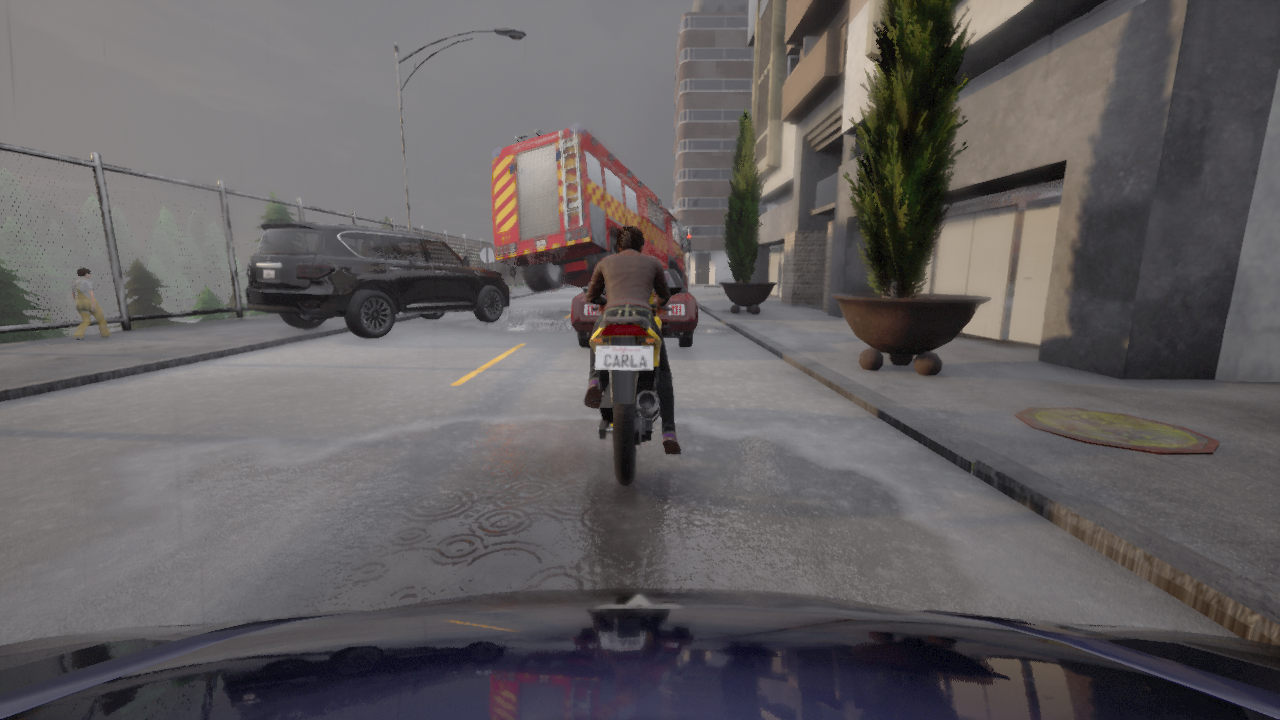cyclist: (0, 588, 1279, 719), (491, 124, 687, 291), (245, 222, 509, 338), (582, 286, 682, 484), (570, 269, 698, 347)
pedestrian: (71, 267, 113, 340), (508, 266, 516, 294), (549, 289, 556, 295)
